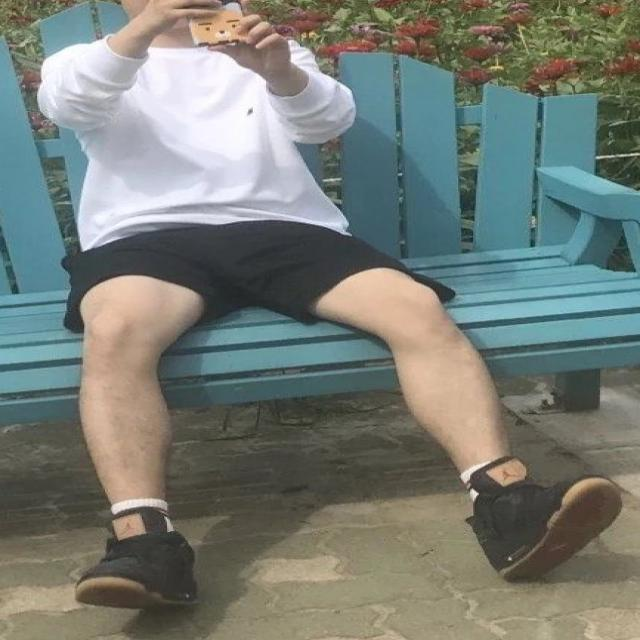longsleeve: (35, 32, 355, 254)
shortpants: (64, 217, 417, 325)
